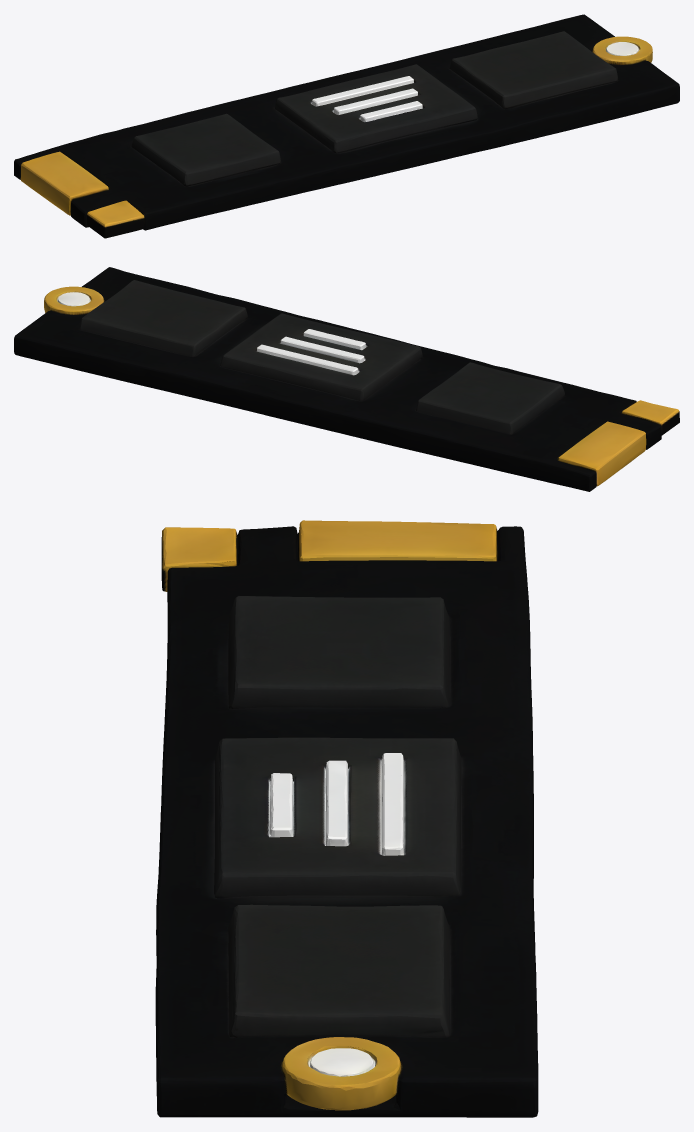
Rendered from ssd_m2.fbx.
The picture shows the model from 3 angles, top to bottom: view 1: azimuth 30°, elevation 25°; view 2: azimuth 150°, elevation 25°; view 3: azimuth 270°, elevation 25°; orthographic projection. The views are drawn at different scales.
Visible parts, largest first — view 1: model; view 2: model; view 3: model.
Part boxes in pixels (left/top/right/bottom): model: left=14, top=14, right=679, bottom=238; model: left=14, top=267, right=679, bottom=491; model: left=155, top=520, right=538, bottom=1117.
Size of the model in its own units: 190 by 10.58 by 53.54.
1 material, 1 textured.
